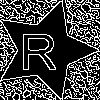R: (19, 25, 57, 70)
